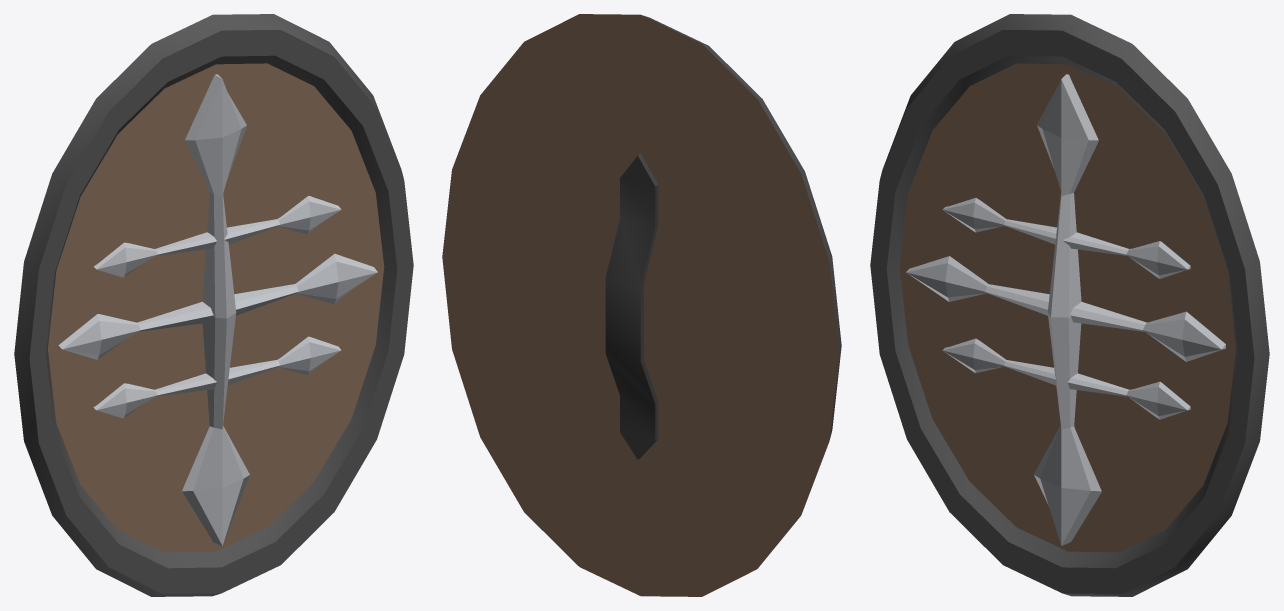
The model's file is Shield_5.fbx.
3 views of the same model, side by side, from view 1: azimuth 30°, elevation 25°; view 2: azimuth 150°, elevation 25°; view 3: azimuth 330°, elevation 25° (orthographic).
Parts seen in each view (by area): view 1: polySurface329; view 2: polySurface329; view 3: polySurface329.
Boxes of the visible parts, x1=… form: polySurface329: x1=14, y1=14, x2=413, y2=596; polySurface329: x1=442, y1=14, x2=841, y2=596; polySurface329: x1=870, y1=14, x2=1269, y2=596.
Bounding box in the file's own units: 207 × 289 × 31.34.
